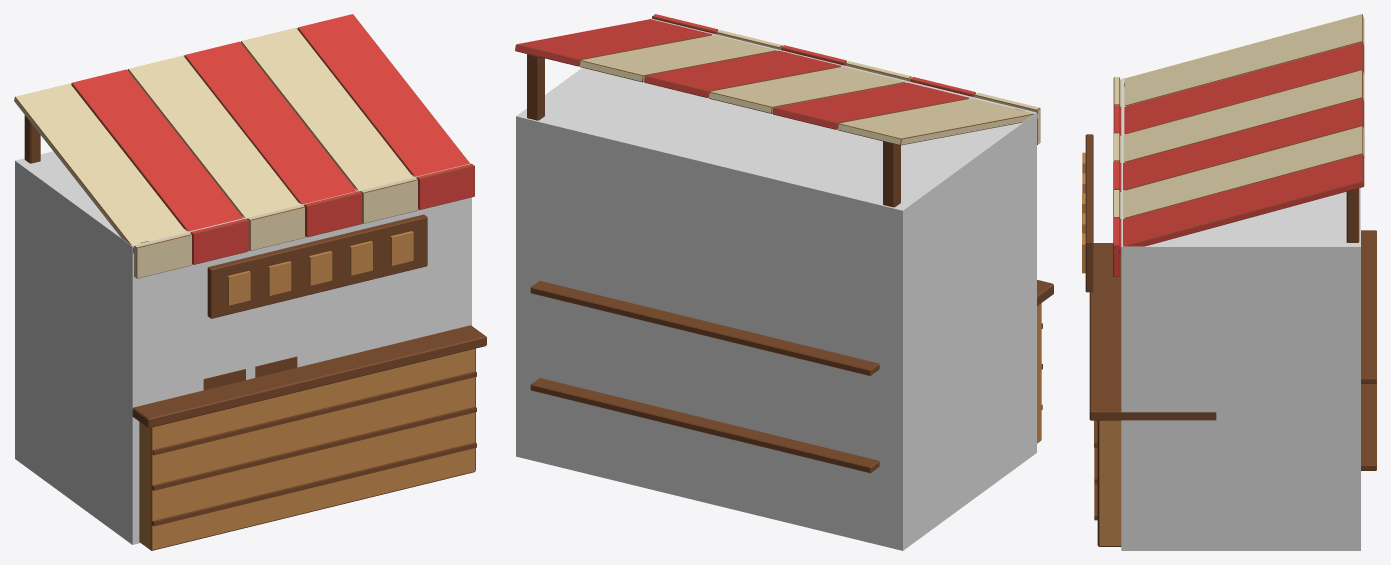
The model's file is prop_stall_a.glb.
3 views of the same model, side by side, from view 1: azimuth 30°, elevation 25°; view 2: azimuth 150°, elevation 25°; view 3: azimuth 270°, elevation 25° (orthographic). The views are drawn at different scales.
Parts seen in each view (by area): view 1: prop_stall_a, COL_prop_stall_a_1; view 2: COL_prop_stall_a_1, prop_stall_a; view 3: COL_prop_stall_a_1, prop_stall_a.
Boxes of the visible parts, x1,y1,x2,y2 form: prop_stall_a: (14,14,486,550); COL_prop_stall_a_1: (15,151,471,544); COL_prop_stall_a_1: (516,18,1036,550); prop_stall_a: (515,14,1053,473); COL_prop_stall_a_1: (1121,78,1360,550); prop_stall_a: (1082,14,1376,546).
Size of the model in its own units: 2.5 by 2.55 by 1.85.
